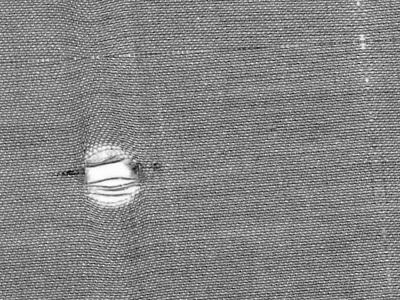hole: (77, 141, 145, 211)
